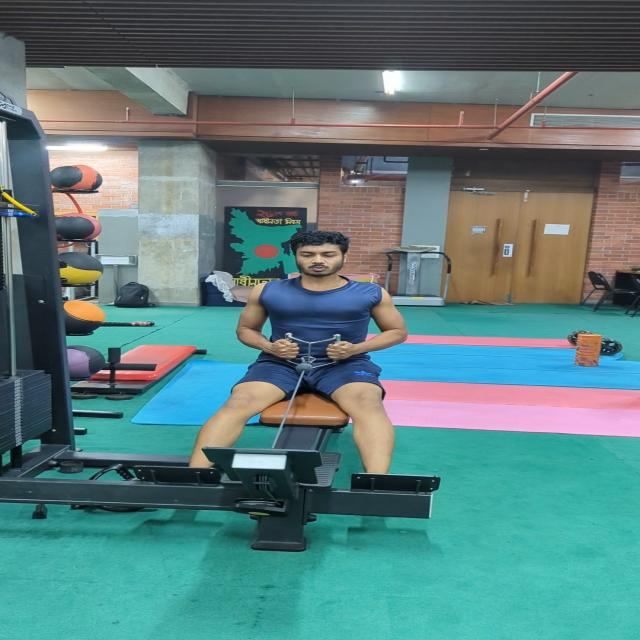Normal_RowingMachineExercise: (184, 230, 409, 478)
